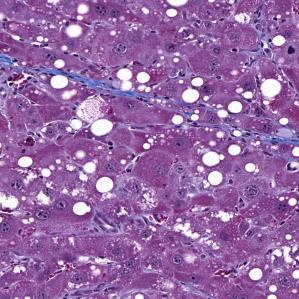fibrosis: (69, 75, 125, 102), (0, 54, 47, 76), (248, 133, 299, 152)
